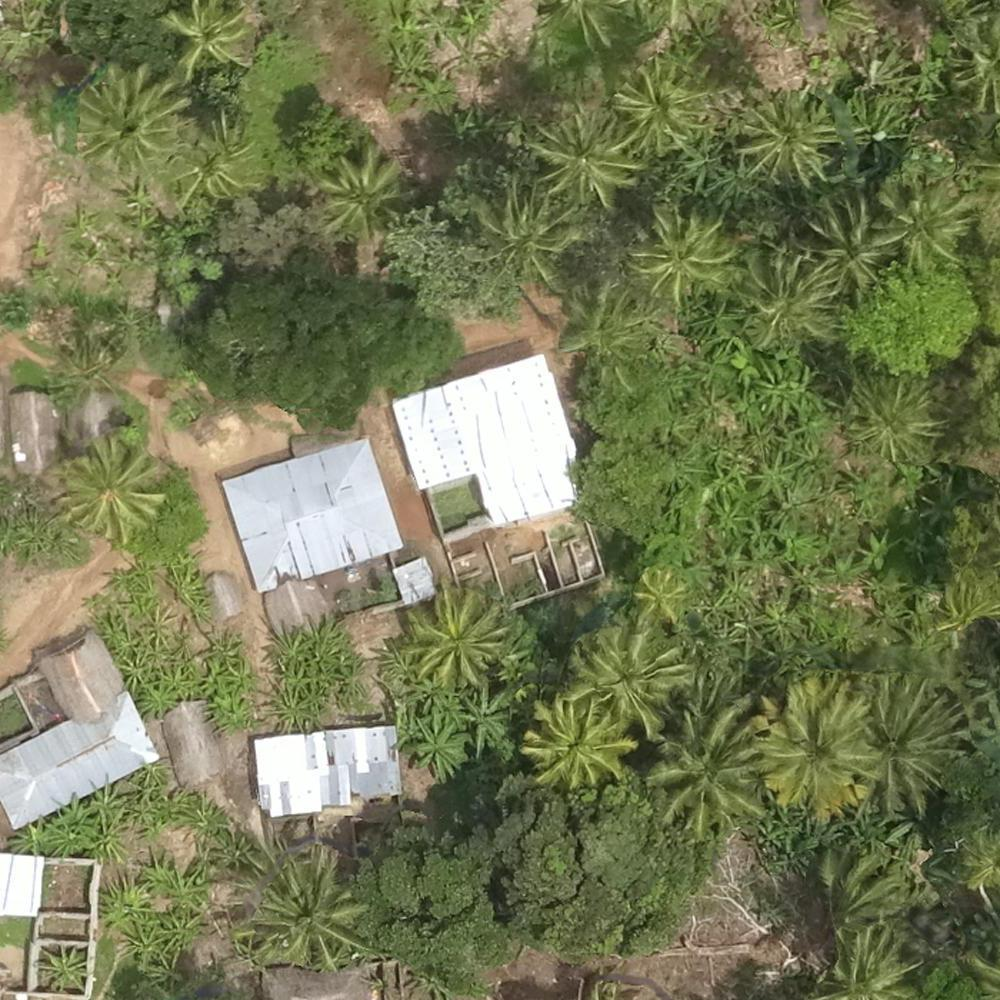Palm: (765, 678, 878, 802), (651, 709, 768, 824), (866, 678, 960, 804), (571, 627, 683, 731), (253, 861, 363, 965), (76, 64, 179, 171), (530, 106, 638, 201), (470, 184, 569, 286), (736, 245, 834, 345), (63, 440, 159, 542), (801, 190, 902, 286), (633, 200, 729, 298), (404, 584, 498, 683), (521, 699, 631, 783), (740, 92, 834, 183), (879, 176, 975, 264), (611, 63, 710, 147), (318, 143, 407, 235), (171, 121, 253, 202), (163, 1, 251, 73)
